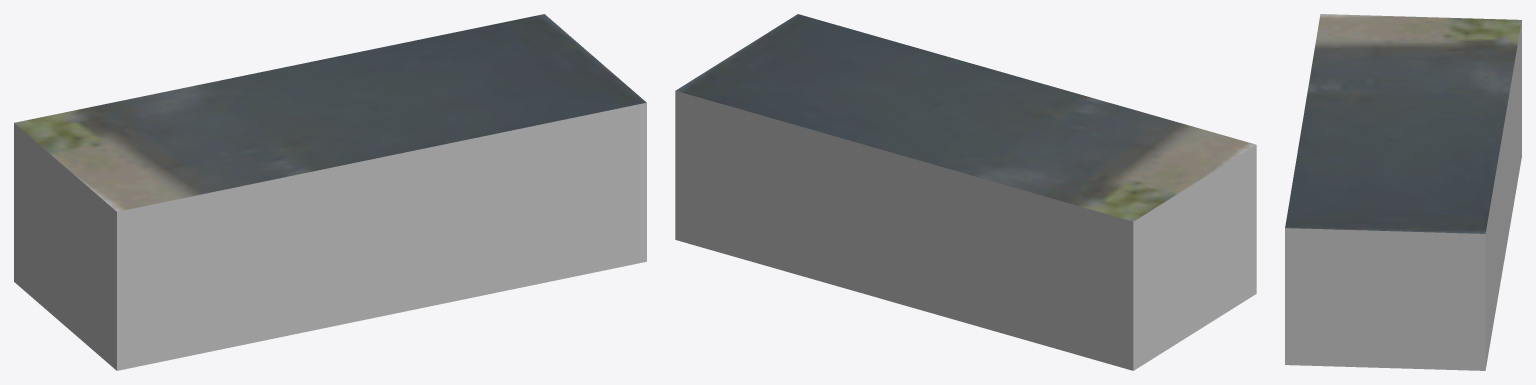
Rendered from DEBW_0010007Txij.gltf.
3 renders of one model, left to right at view 1: azimuth 30°, elevation 25°; view 2: azimuth 150°, elevation 25°; view 3: azimuth 270°, elevation 25°, orthographic. The views are drawn at different scales.
Parts seen in each view (by area): view 1: Z_UP; view 2: Z_UP; view 3: Z_UP.
Part boxes in pixels (<box>): Z_UP: <box>14,14,646,370</box>; Z_UP: <box>675,14,1256,370</box>; Z_UP: <box>1285,14,1521,370</box>.
Bounding box in the file's own units: 15.89 × 4.61 × 7.23.
Materials: 2 (1 with a texture image).
